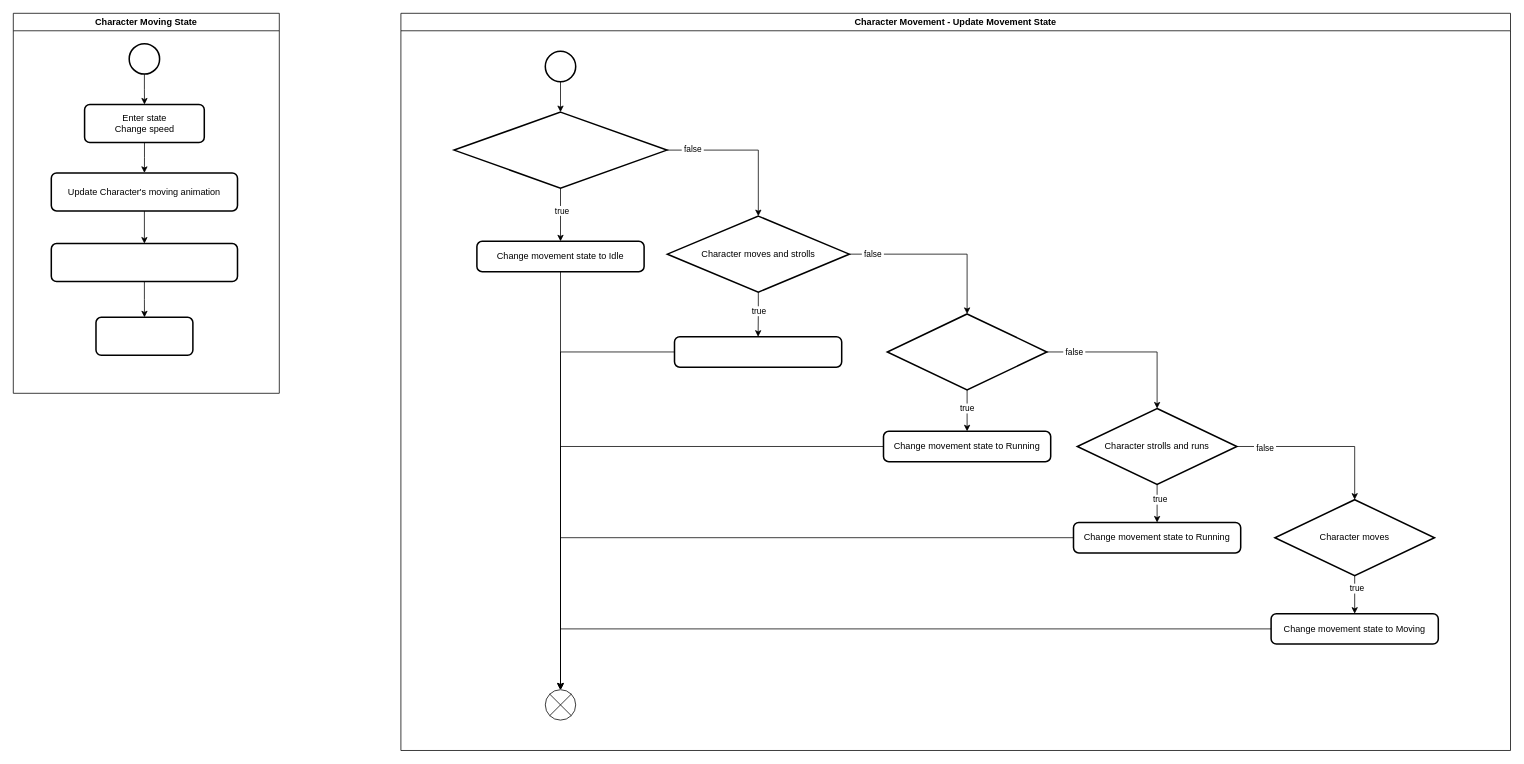
Some shapes in this 1524 by 764 pixel diagram are drawn without their labels. Each missing label, with the box of its shape:
Call PlayerMovement.Moving(): (50, 242, 238, 282)
Change movement state to Strolling: (673, 336, 842, 368)
Character doesn't move, stroll, or run: (453, 111, 667, 188)
Character moves and runs: (886, 313, 1047, 390)
Exit state: (95, 316, 193, 356)
